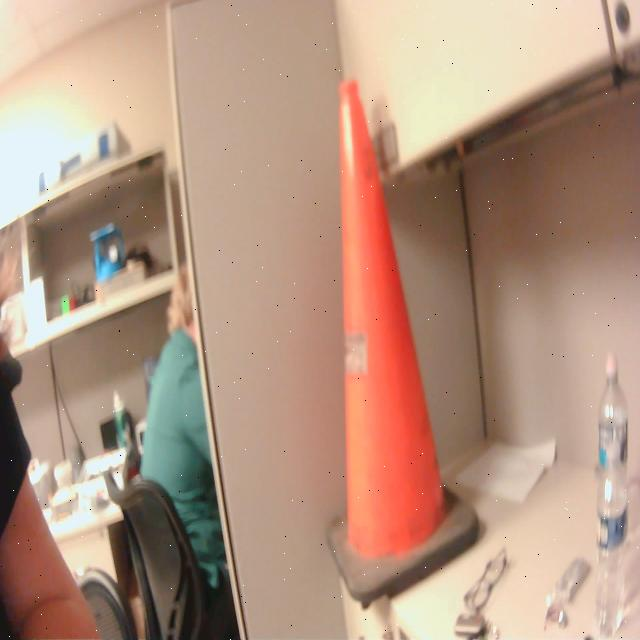traffic cone: (322, 67, 482, 619)
